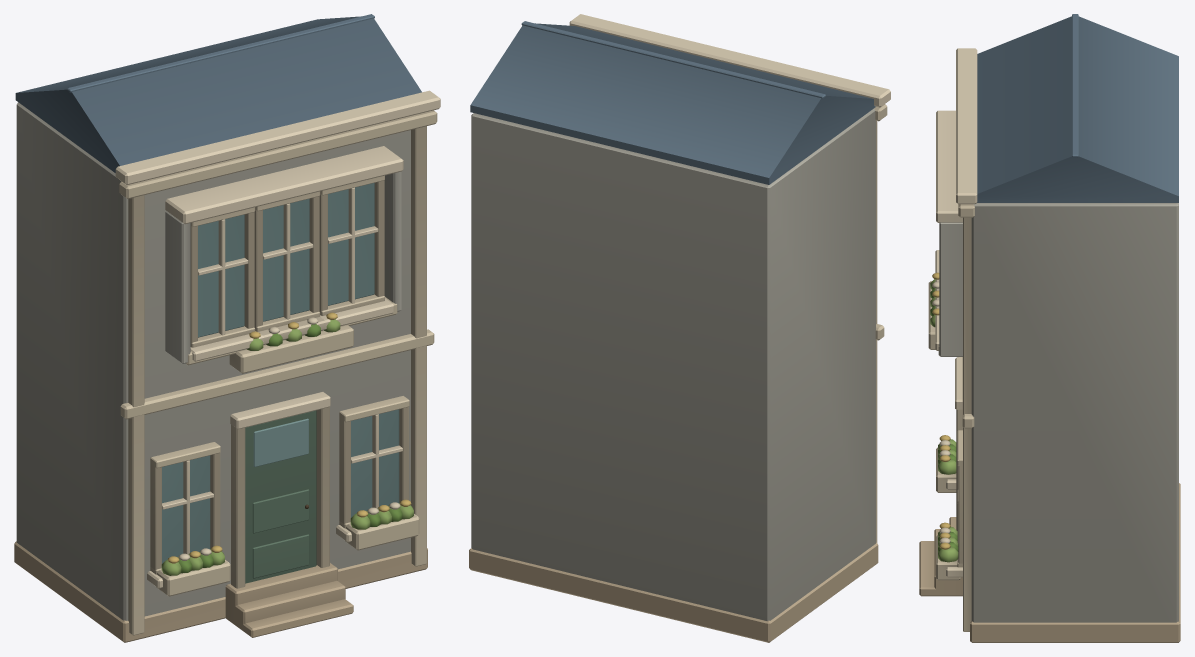
The model's file is facade_generic_2.glb.
The picture shows the model from 3 angles, left to right: view 1: azimuth 30°, elevation 25°; view 2: azimuth 150°, elevation 25°; view 3: azimuth 270°, elevation 25°; orthographic projection. The views are drawn at different scales.
Visible parts, largest first — view 1: facade_generic_2; view 2: facade_generic_2; view 3: facade_generic_2.
Boxes of the visible parts, bbox=[...] form: facade_generic_2: bbox=[14, 14, 440, 642]; facade_generic_2: bbox=[469, 14, 890, 642]; facade_generic_2: bbox=[919, 14, 1180, 642].
Size of the model in its own units: 4.18 by 6.51 by 3.15.
